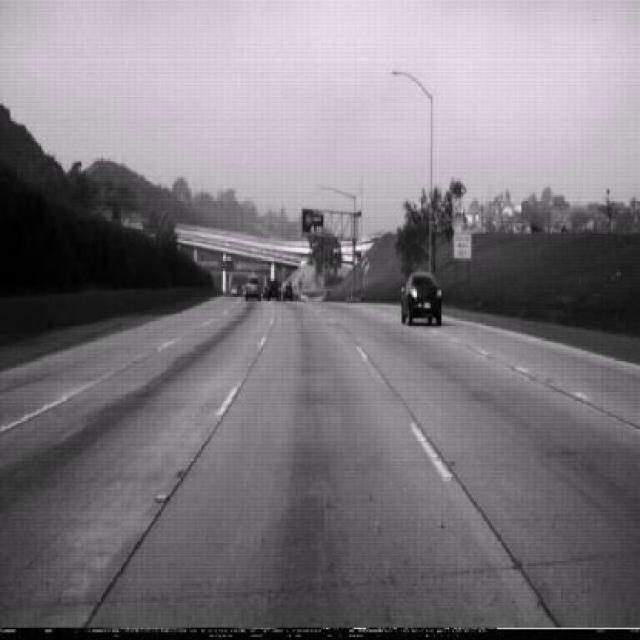curveRight: (360, 256, 370, 274)
